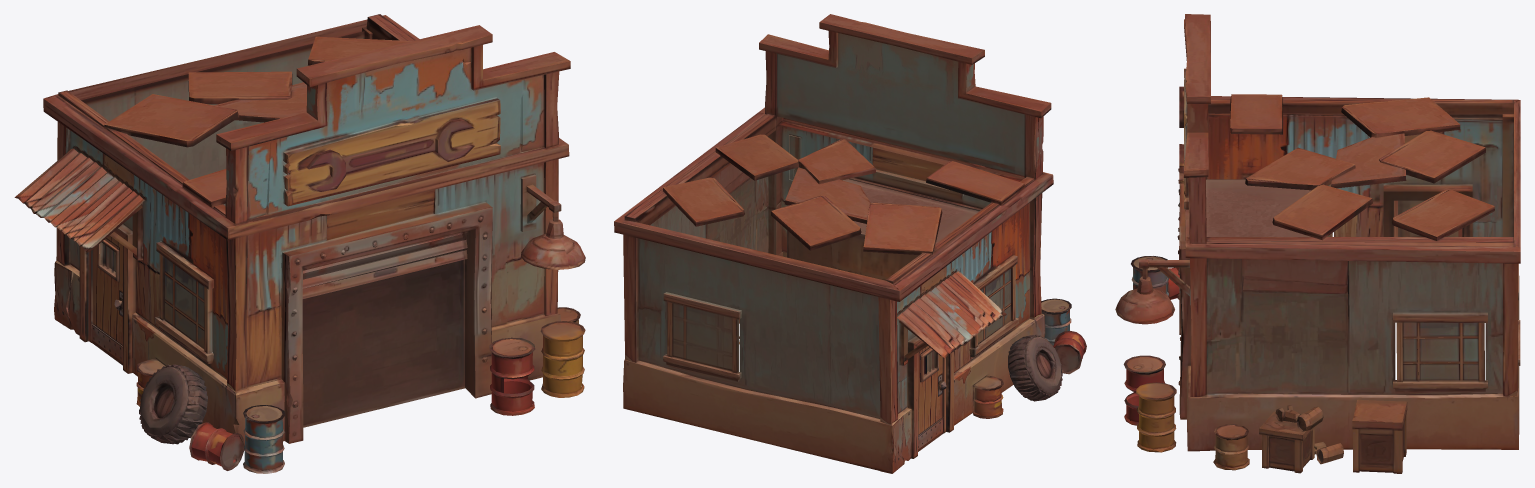
Rendered from wl_garage.glb.
3 renders of one model, left to right at view 1: azimuth 30°, elevation 25°; view 2: azimuth 150°, elevation 25°; view 3: azimuth 270°, elevation 25°, orthographic. The views are drawn at different scales.
Visible parts, largest first — view 1: wl_garage; view 2: wl_garage; view 3: wl_garage.
Part boxes in pixels (x1,y1,x2,y2): wl_garage: (14,14,585,473); wl_garage: (614,14,1086,473); wl_garage: (1115,14,1520,473).
Size of the model in its own units: 6.18 by 5 by 5.52.
1 material, 1 textured.
